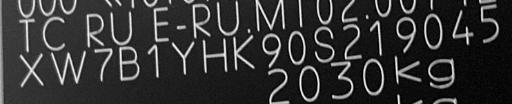letter: (49, 48, 89, 85), (198, 34, 230, 74), (231, 31, 259, 73), (115, 44, 143, 82), (170, 38, 196, 78), (16, 52, 46, 86), (259, 30, 283, 70), (451, 8, 475, 47), (339, 22, 363, 61), (394, 14, 418, 52), (478, 4, 500, 45), (312, 25, 336, 62), (284, 28, 308, 64), (422, 12, 444, 51), (92, 45, 114, 84), (143, 42, 163, 81), (368, 18, 386, 56)
